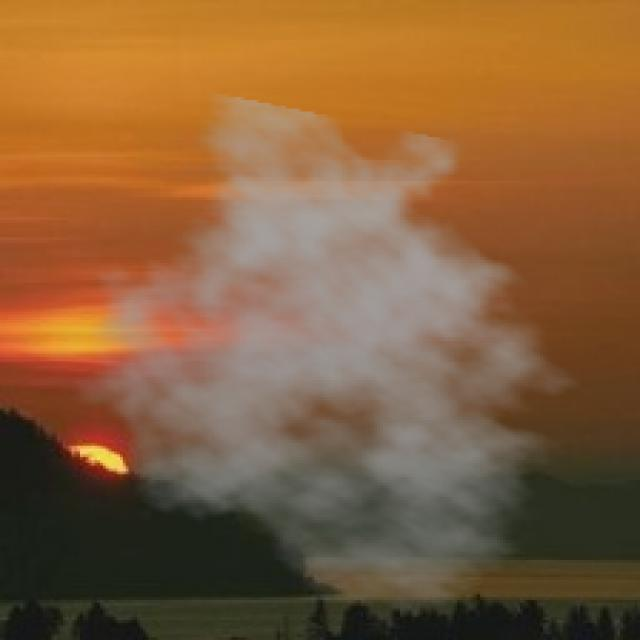smoke: (71, 91, 600, 614)
